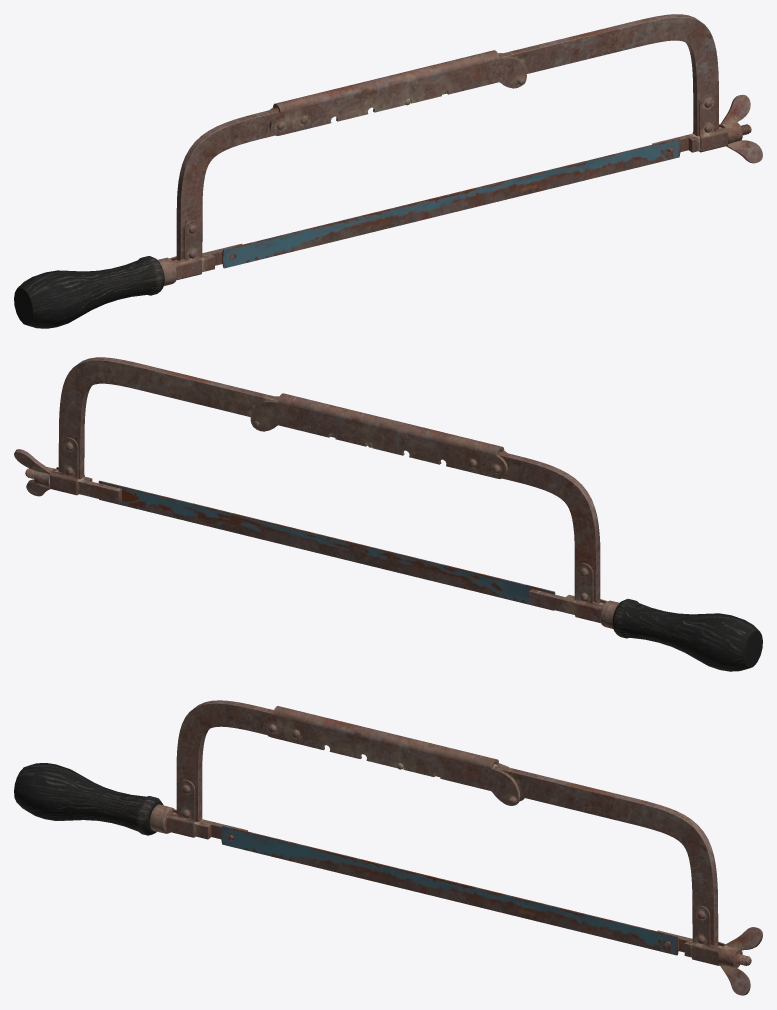
The model's file is rusted_hacksaw.da11dec9.glb.
3 views of the same model, one above another, from view 1: azimuth 30°, elevation 25°; view 2: azimuth 150°, elevation 25°; view 3: azimuth 330°, elevation 25° (orthographic).
Visible parts, largest first — view 1: rusted_hacksaw; view 2: rusted_hacksaw; view 3: rusted_hacksaw.
Part boxes in pixels (left/top/right/bottom): rusted_hacksaw: left=14, top=14, right=762, bottom=328; rusted_hacksaw: left=14, top=357, right=762, bottom=671; rusted_hacksaw: left=14, top=700, right=762, bottom=995.
Size of the model in its own units: 0.95 by 0.2093 by 0.0629.
1 material, 1 textured.
